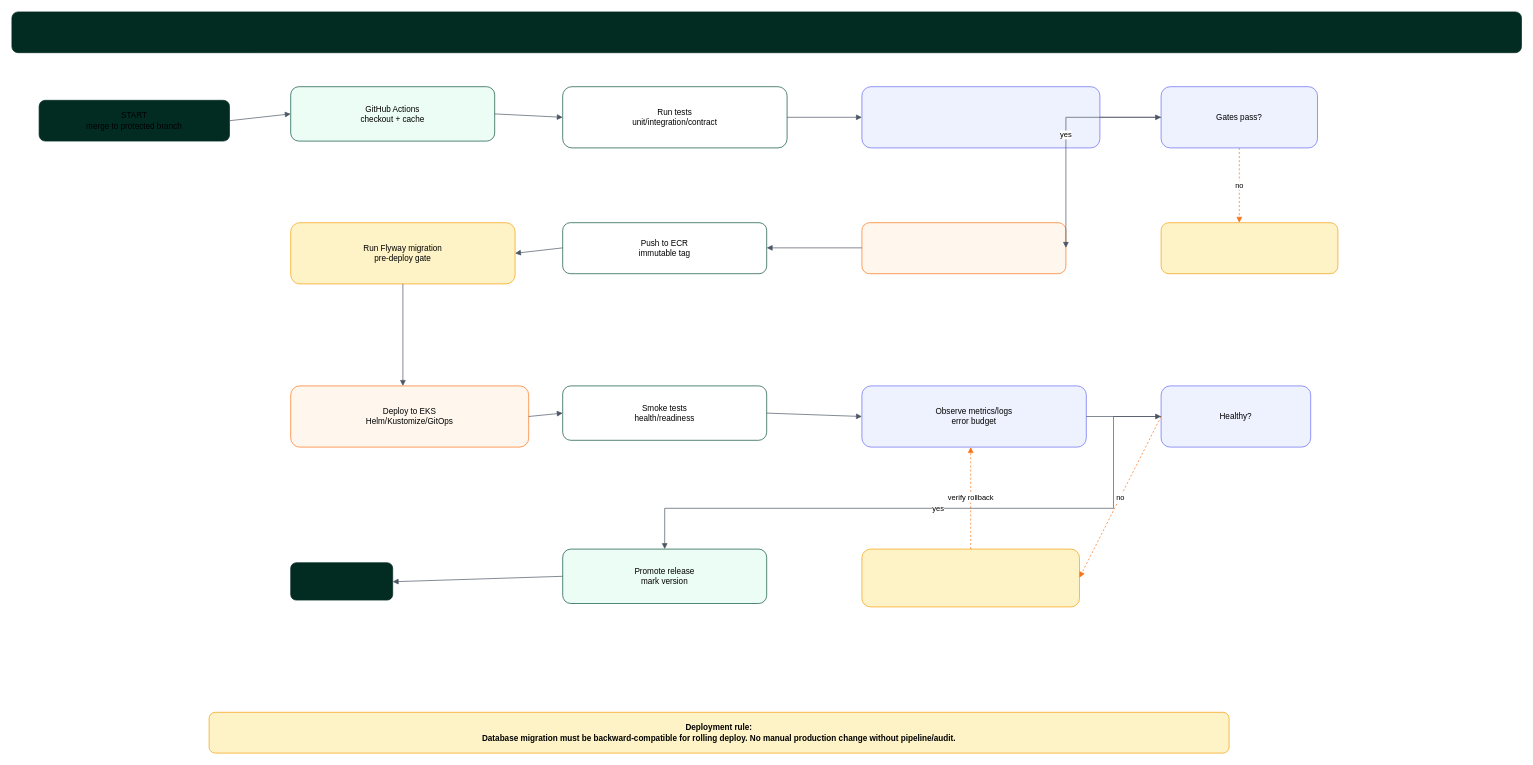
Some shapes in this 1533 by 765 pixel diagram are drawn without their labels. Each missing label, with the centre of its shape:
Build Docker image: point (963, 248)
END: point (341, 581)
Fail pipeline no deploy: point (1249, 248)
Quality gates lint/SAST/dependency scan: point (980, 117)
Rollback previous image/config: point (970, 577)
Viaverse CI/CD Deployment — Activity Diagram: point (766, 32)
